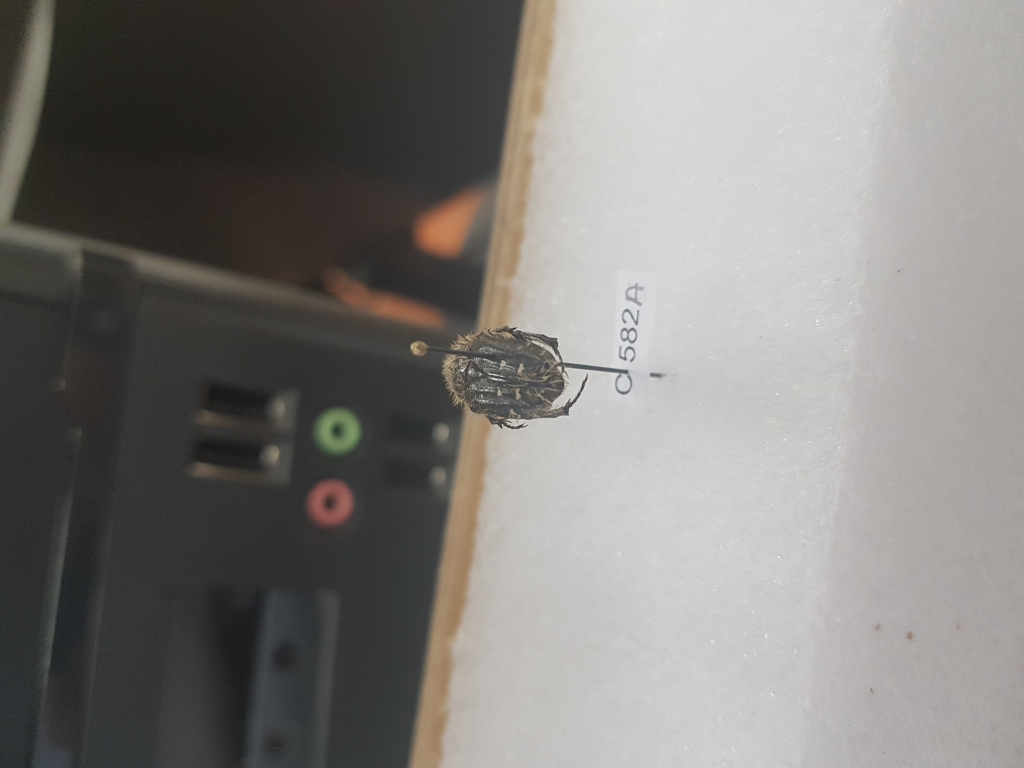Tropinota_hirta: (437, 320, 586, 430)
